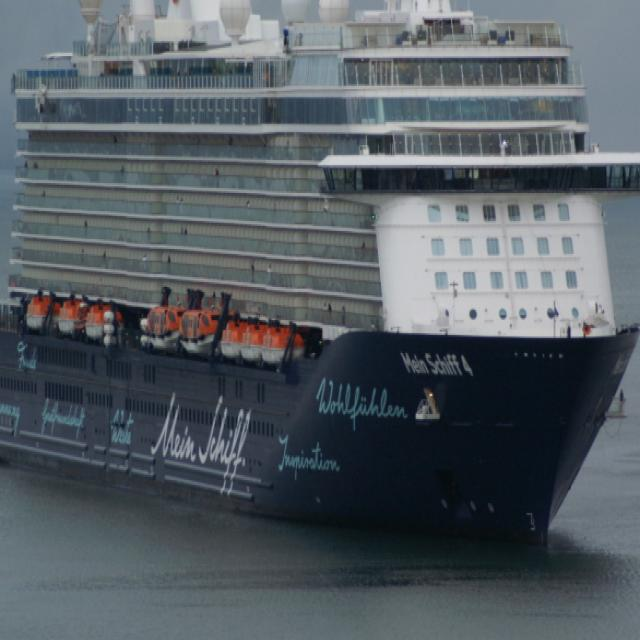cruises: (1, 1, 640, 557)
